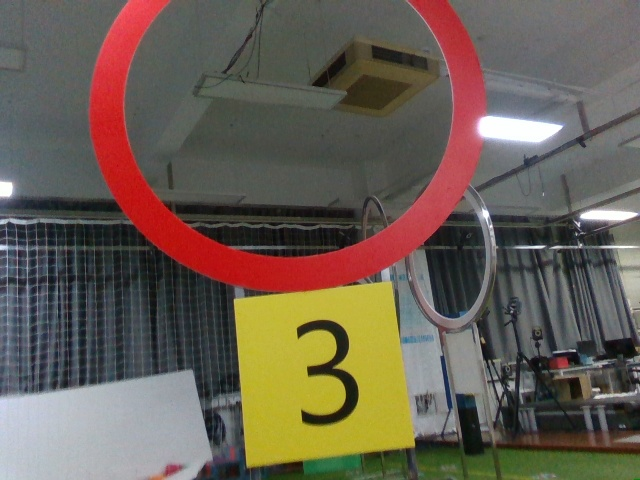target: (246, 305, 402, 452)
